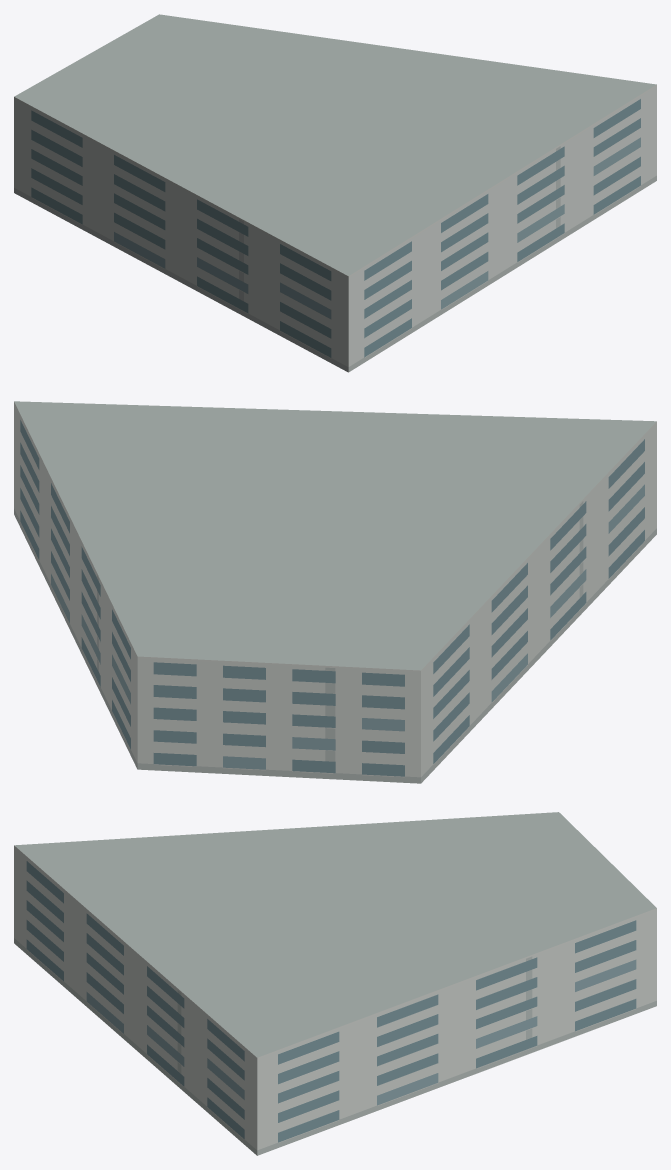
The model's file is survey-upis-32790622.glb.
3 views of the same model, one above another, from view 1: azimuth 30°, elevation 25°; view 2: azimuth 150°, elevation 25°; view 3: azimuth 270°, elevation 25° (orthographic). The views are drawn at different scales.
Visible parts, largest first — view 1: survey-upis-32790622.tmp; view 2: survey-upis-32790622.tmp; view 3: survey-upis-32790622.tmp.
Boxes of the visible parts, x1,y1,x2,y2 form: survey-upis-32790622.tmp: (14, 14, 656, 372); survey-upis-32790622.tmp: (14, 401, 656, 783); survey-upis-32790622.tmp: (14, 812, 656, 1155).
Size of the model in its own units: 82 by 15.25 by 90.64.
